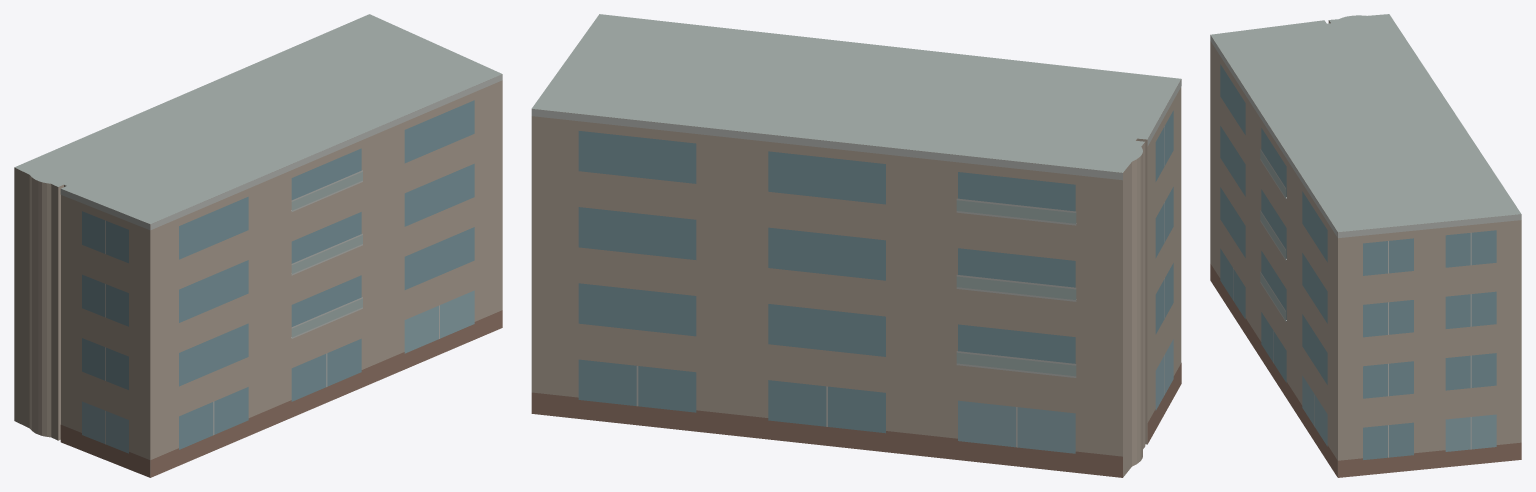
The model's file is survey-upis-33035672.glb.
The picture shows the model from 3 angles, left to right: view 1: azimuth 30°, elevation 25°; view 2: azimuth 150°, elevation 25°; view 3: azimuth 270°, elevation 25°; orthographic projection. The views are drawn at different scales.
Visible parts, largest first — view 1: survey-upis-33035672.tmp; view 2: survey-upis-33035672.tmp; view 3: survey-upis-33035672.tmp.
Part boxes in pixels (<box>): survey-upis-33035672.tmp: <box>14,14,502,477</box>; survey-upis-33035672.tmp: <box>531,14,1181,477</box>; survey-upis-33035672.tmp: <box>1210,14,1521,477</box>.
Bounding box in the file's own units: 19.26 × 10.1 × 11.61.
